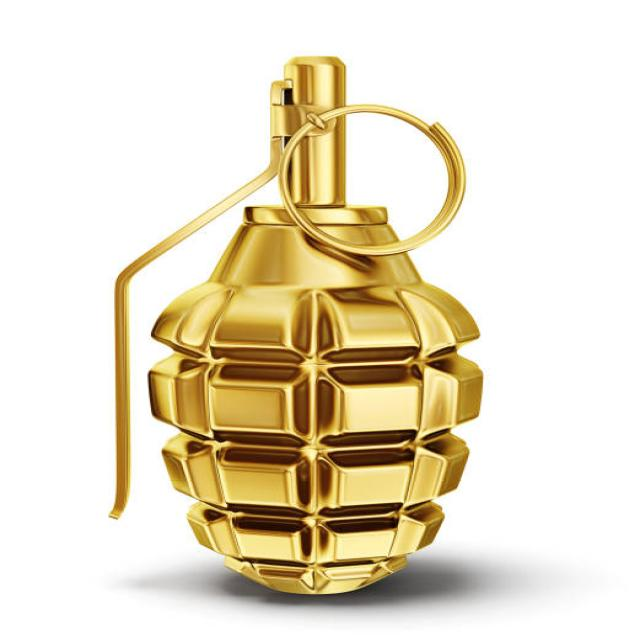grenade: (99, 41, 486, 604)
